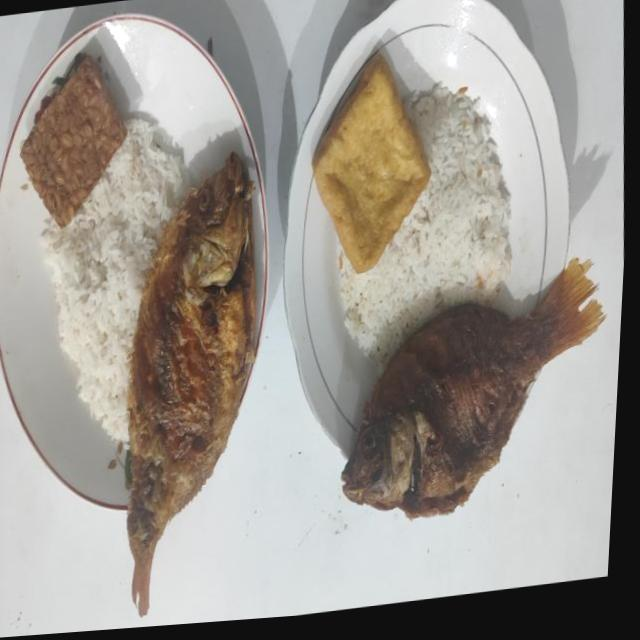ikan_mujair: (342, 260, 604, 518), (127, 153, 255, 616)
nasi_putih: (338, 84, 512, 363), (42, 118, 185, 446)
tahu_goreng: (312, 56, 431, 274)
tempe_goreng: (21, 56, 128, 227)
